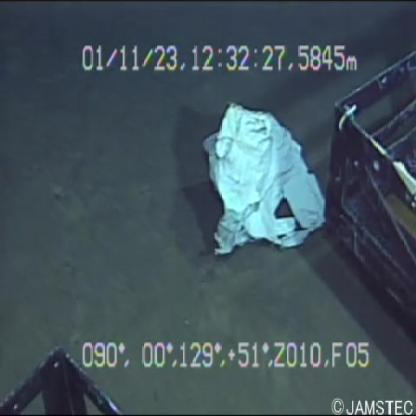Rov: (309, 24, 416, 348), (0, 338, 129, 416)
Rác: (191, 100, 333, 264)
